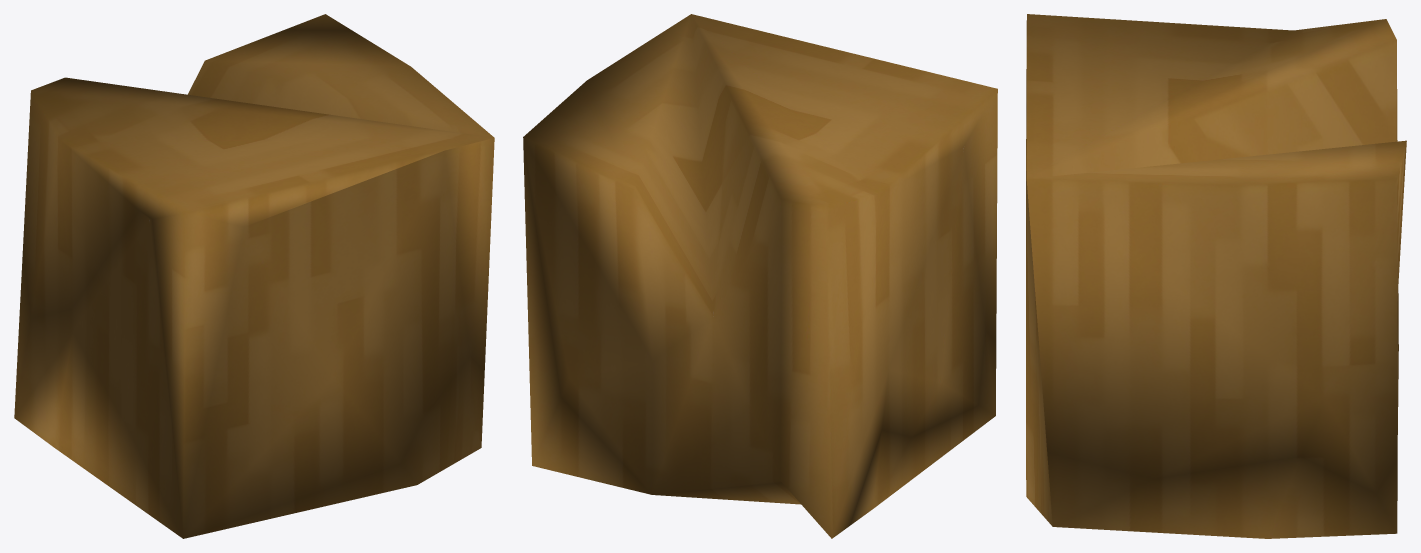
3 views of the same model, side by side, from view 1: azimuth 30°, elevation 25°; view 2: azimuth 150°, elevation 25°; view 3: azimuth 270°, elevation 25° (orthographic). The views are drawn at different scales.
Visible parts, largest first — view 1: tripo_node_1848dc16-8005-4b9b-9683-cf43b4c28d9a; view 2: tripo_node_1848dc16-8005-4b9b-9683-cf43b4c28d9a; view 3: tripo_node_1848dc16-8005-4b9b-9683-cf43b4c28d9a.
Boxes of the visible parts, bbox=[...] form: tripo_node_1848dc16-8005-4b9b-9683-cf43b4c28d9a: bbox=[14, 14, 494, 538]; tripo_node_1848dc16-8005-4b9b-9683-cf43b4c28d9a: bbox=[523, 14, 997, 538]; tripo_node_1848dc16-8005-4b9b-9683-cf43b4c28d9a: bbox=[1026, 14, 1406, 538].
Bounding box in the file's own units: 1 × 0.974 × 0.9342.
Materials: 1 (1 with a texture image).
